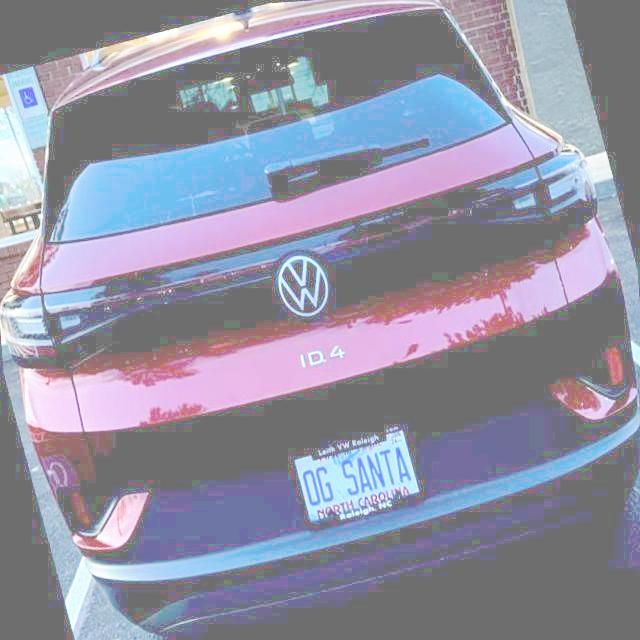license_plate: (286, 420, 426, 531)
